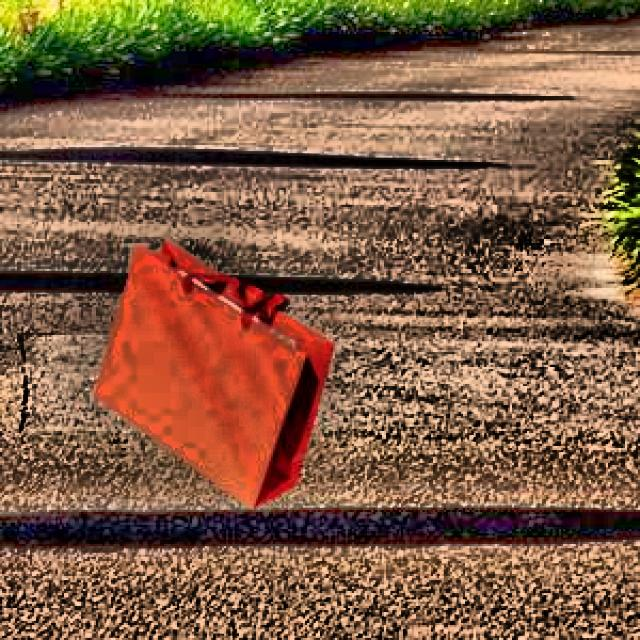Paper-bag: (73, 229, 348, 521)
